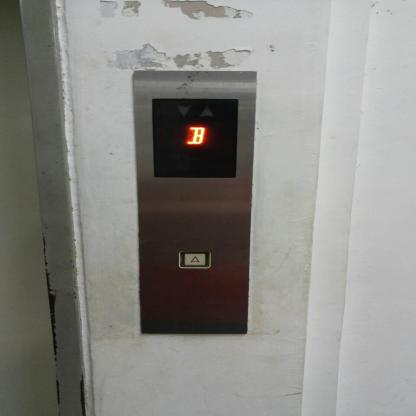led: (146, 94, 245, 182)
up: (179, 250, 212, 268)
